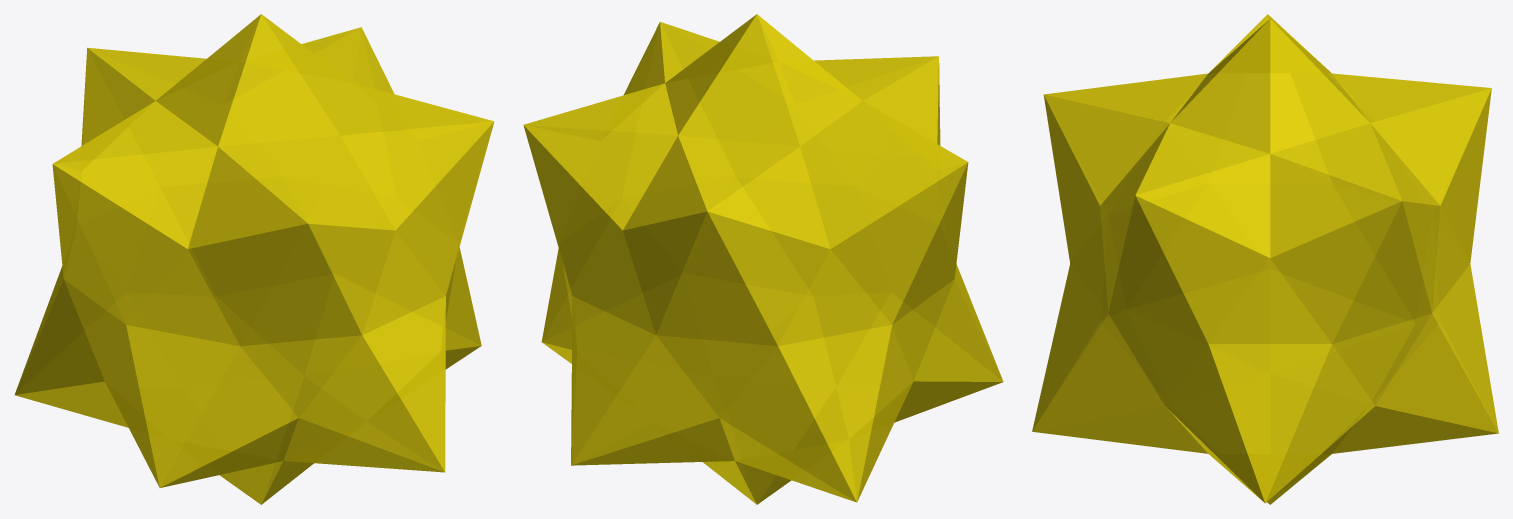
Rendered from Eiwi.fbx.
3 views of the same model, side by side, from view 1: azimuth 30°, elevation 25°; view 2: azimuth 150°, elevation 25°; view 3: azimuth 270°, elevation 25° (orthographic).
Parts seen in each view (by area): view 1: Icosphere; view 2: Icosphere; view 3: Icosphere.
Part boxes in pixels (<box>): Icosphere: <box>14,14,494,504</box>; Icosphere: <box>523,14,1003,504</box>; Icosphere: <box>1032,14,1498,504</box>.
Size of the model in its own units: 245 by 268 by 233.
